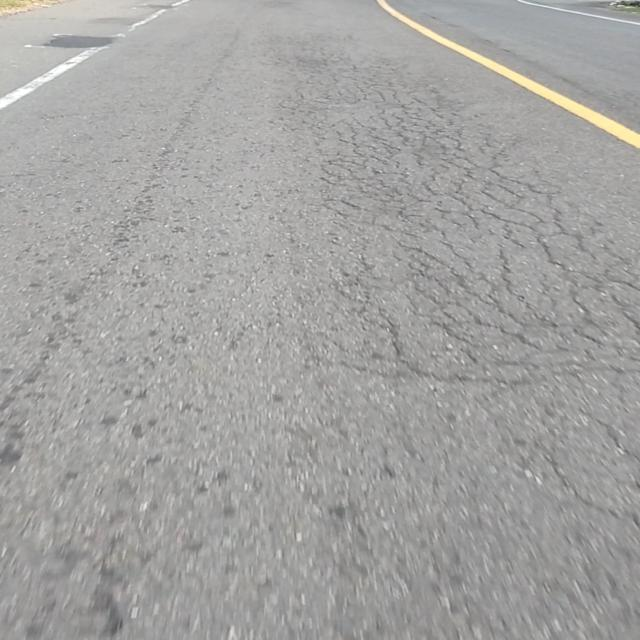Retak Buaya: (278, 66, 640, 366)
